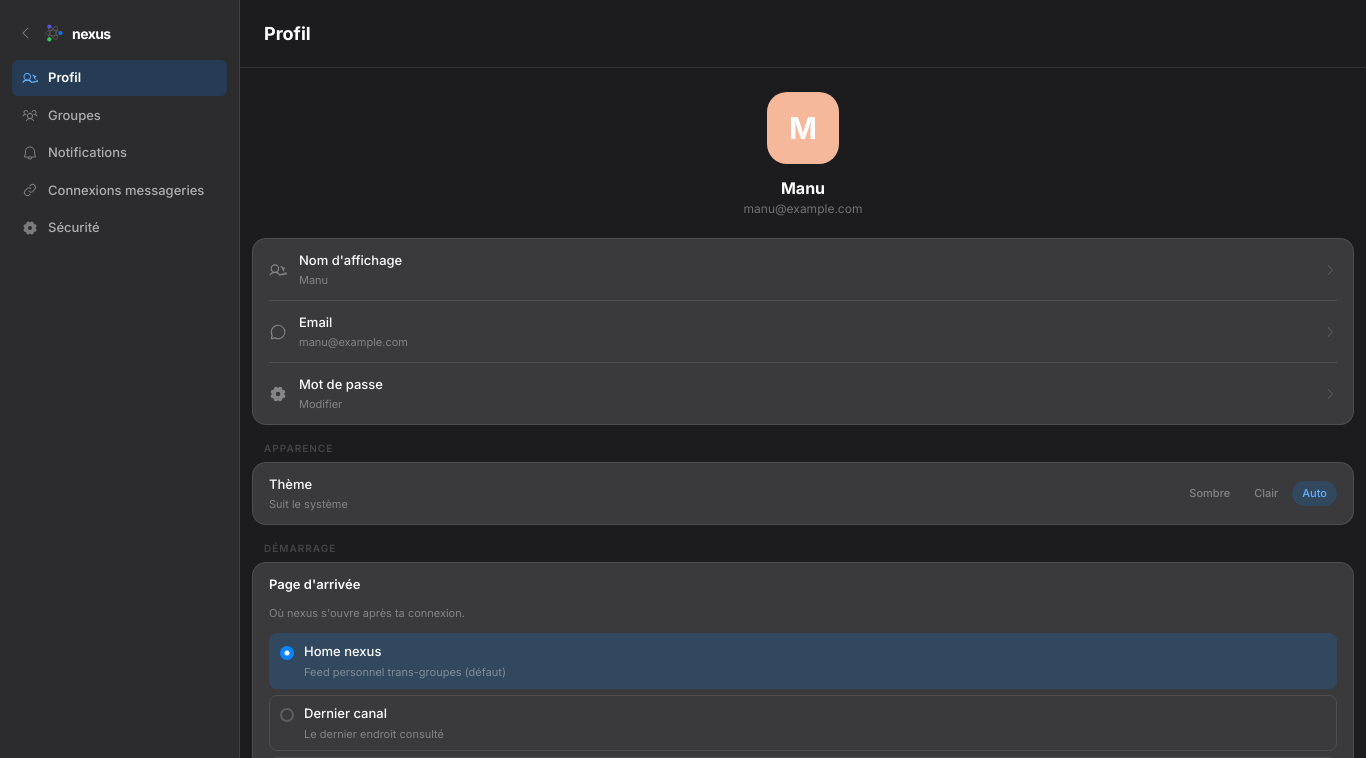
Test: Modales de compte — nommage accessible des champs › le champ email a un nom accessible
The image size is (1366, 758).
What coordinates should you click on to do the following:
click the text "Email"
I would click on:
 (316, 322)
Its box is [299,314,332,330].
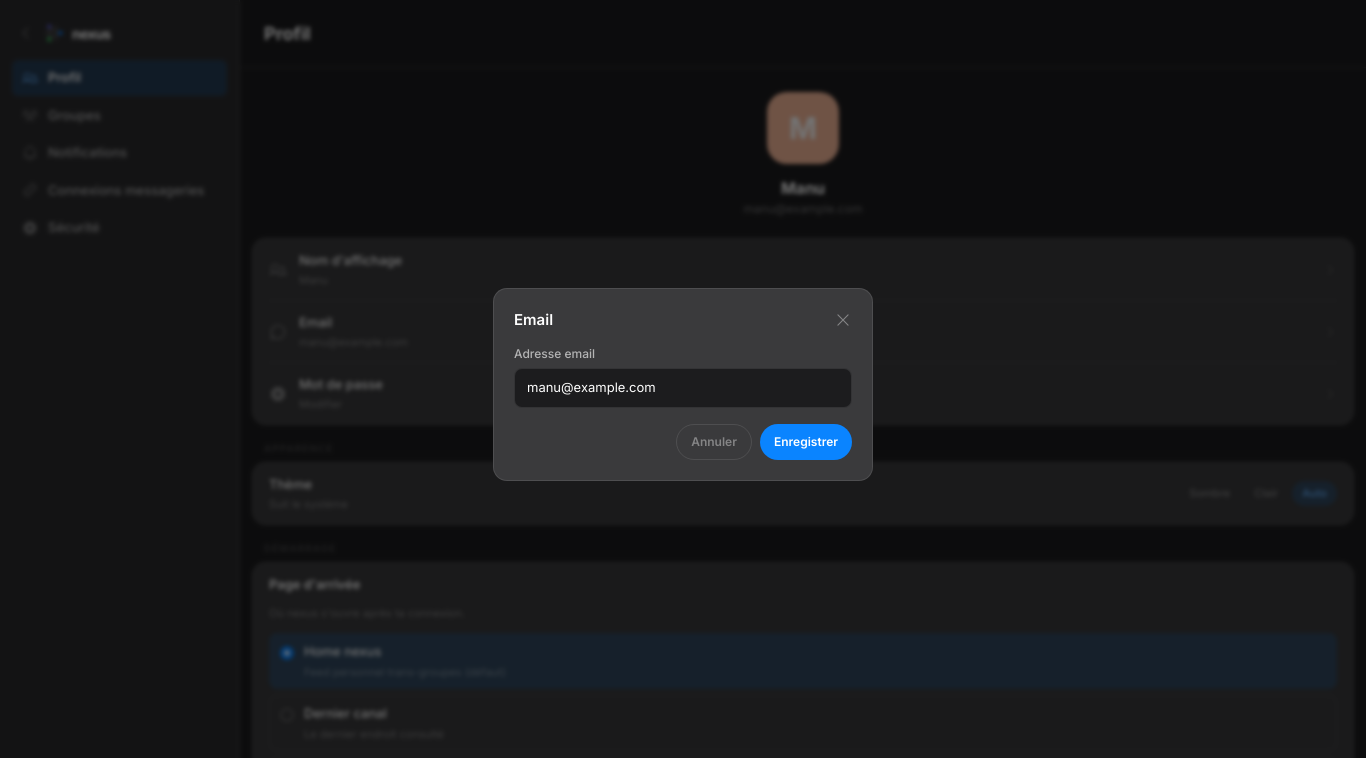
Expected: the field labelled "Adresse email" holds "manu@example.com", [514,368,852,408]
